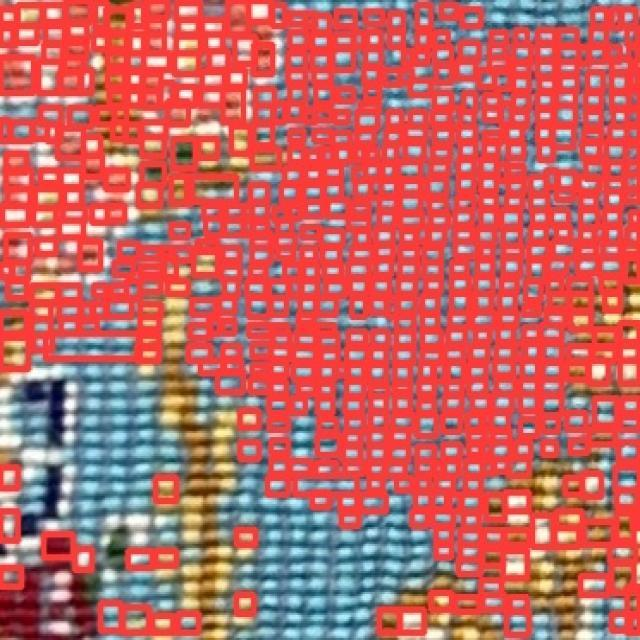Knot: (0, 337, 28, 370), (172, 138, 196, 168), (58, 130, 84, 157), (43, 534, 72, 558), (229, 2, 249, 36), (594, 398, 618, 426), (612, 564, 634, 594), (502, 550, 526, 577), (584, 522, 612, 545), (532, 515, 552, 547), (124, 608, 150, 632), (7, 236, 31, 262), (170, 177, 193, 204), (223, 90, 243, 121), (40, 63, 60, 94), (251, 148, 279, 170), (194, 249, 218, 274), (80, 240, 101, 268), (100, 604, 122, 630), (1, 312, 27, 334), (614, 468, 640, 490), (232, 125, 250, 155), (401, 610, 425, 632), (106, 10, 128, 34), (6, 170, 32, 190), (0, 511, 17, 541), (66, 1, 90, 22), (17, 5, 41, 26), (176, 52, 200, 73), (218, 372, 242, 393), (35, 188, 61, 207), (254, 46, 272, 73), (378, 610, 400, 632), (249, 1, 272, 22), (59, 72, 82, 93), (507, 613, 530, 634), (505, 492, 529, 512), (177, 34, 201, 54), (234, 38, 254, 62), (168, 100, 188, 124), (617, 512, 634, 540), (580, 577, 608, 594), (590, 428, 616, 446), (31, 284, 57, 302), (360, 494, 386, 512), (142, 163, 164, 184), (156, 478, 176, 501), (4, 206, 28, 225), (32, 207, 56, 226), (558, 511, 584, 528), (106, 300, 132, 317), (139, 185, 160, 206), (70, 108, 92, 128), (569, 294, 592, 313), (317, 436, 340, 455), (106, 170, 130, 188), (611, 544, 635, 562), (571, 310, 592, 330), (11, 122, 32, 142), (66, 38, 87, 58), (486, 496, 505, 518), (142, 136, 164, 155), (593, 330, 616, 348), (556, 529, 580, 546), (176, 2, 200, 19), (144, 53, 168, 70), (200, 89, 224, 106), (7, 189, 31, 206), (14, 26, 38, 43), (505, 529, 529, 546), (128, 551, 152, 568), (589, 362, 608, 383), (620, 362, 639, 383), (431, 592, 452, 611), (67, 24, 88, 43), (0, 568, 21, 587), (620, 322, 639, 343), (566, 362, 588, 380), (554, 106, 576, 124), (254, 124, 272, 146), (177, 615, 200, 632), (202, 18, 226, 34), (320, 230, 344, 246), (198, 139, 218, 158), (606, 142, 626, 161), (333, 50, 353, 69), (248, 298, 268, 317), (483, 548, 503, 567), (553, 128, 574, 146), (84, 156, 102, 177), (600, 258, 622, 275), (472, 312, 495, 328), (60, 221, 83, 237), (553, 243, 576, 259), (626, 256, 640, 282), (74, 550, 93, 569), (209, 52, 228, 71), (542, 395, 561, 414), (567, 412, 586, 431), (44, 44, 63, 63), (32, 318, 51, 337), (7, 154, 27, 172), (62, 206, 86, 221), (568, 346, 592, 361), (224, 218, 244, 236), (142, 121, 166, 136), (192, 299, 216, 314), (204, 34, 224, 52), (616, 490, 636, 508), (152, 615, 173, 632), (558, 45, 579, 62), (619, 345, 640, 362), (584, 474, 600, 496), (578, 176, 600, 192), (40, 108, 62, 124), (59, 304, 82, 319), (188, 346, 211, 361), (392, 415, 415, 430), (569, 280, 592, 295), (139, 278, 162, 293), (582, 140, 600, 159), (543, 362, 562, 380), (64, 188, 82, 207), (324, 182, 342, 201), (256, 88, 274, 107), (84, 137, 102, 156), (315, 86, 334, 104), (37, 238, 56, 256), (44, 5, 64, 22), (396, 297, 416, 314), (204, 72, 224, 89), (313, 14, 330, 34), (400, 162, 420, 179), (0, 468, 17, 488), (268, 478, 288, 495), (357, 114, 378, 130), (619, 444, 640, 460), (62, 170, 83, 186), (541, 380, 562, 396), (0, 24, 16, 45), (494, 69, 510, 90), (480, 579, 502, 594), (428, 178, 446, 196), (628, 588, 640, 615), (236, 594, 253, 613), (493, 395, 512, 412), (549, 295, 568, 312), (548, 257, 567, 274), (418, 416, 435, 435), (143, 90, 160, 109), (509, 459, 528, 476), (148, 2, 167, 19), (611, 72, 628, 91), (228, 69, 245, 88), (239, 410, 258, 427), (586, 162, 605, 179), (268, 398, 288, 414), (522, 360, 538, 380), (179, 19, 199, 35), (327, 200, 347, 216), (529, 260, 545, 280), (460, 544, 480, 560), (60, 286, 80, 302), (610, 614, 630, 630), (460, 560, 480, 576), (129, 34, 145, 54), (64, 58, 84, 74), (293, 365, 314, 380), (541, 324, 562, 339), (136, 347, 160, 360), (592, 347, 616, 360), (0, 10, 17, 28), (580, 209, 598, 226), (8, 281, 26, 298), (288, 53, 306, 70), (378, 211, 396, 228), (610, 126, 627, 144), (502, 211, 520, 228), (46, 26, 64, 43), (318, 298, 336, 315), (349, 262, 368, 278), (450, 312, 469, 328), (401, 196, 420, 212), (146, 36, 165, 52), (528, 242, 547, 258), (364, 49, 380, 68), (608, 161, 624, 180), (588, 73, 604, 92), (492, 413, 508, 432), (444, 414, 460, 433), (456, 62, 475, 78), (431, 494, 450, 510), (491, 444, 510, 460), (566, 477, 582, 496), (590, 28, 606, 47), (178, 88, 194, 107), (456, 196, 475, 212), (461, 10, 480, 26), (236, 529, 256, 544), (484, 596, 504, 611), (326, 281, 346, 296), (156, 550, 176, 565), (600, 277, 620, 292), (40, 169, 60, 184), (484, 529, 504, 544), (460, 530, 480, 545), (293, 348, 316, 361), (461, 496, 482, 510), (251, 380, 272, 394), (418, 6, 432, 27), (476, 276, 493, 293), (504, 229, 521, 246), (604, 209, 621, 226), (241, 442, 258, 459), (445, 395, 462, 412), (455, 209, 472, 226), (394, 365, 411, 382), (313, 52, 330, 69), (467, 414, 484, 431), (532, 176, 548, 194), (304, 186, 322, 202), (460, 42, 478, 58), (612, 108, 628, 126), (464, 476, 482, 492), (558, 174, 576, 190), (120, 242, 138, 258), (250, 186, 268, 202), (256, 106, 272, 124), (464, 512, 480, 530), (378, 196, 396, 212), (312, 492, 330, 508), (390, 446, 408, 462), (34, 336, 52, 352), (478, 70, 496, 86), (161, 82, 173, 106), (400, 214, 422, 227), (456, 598, 478, 611), (578, 258, 597, 273), (405, 144, 424, 159), (395, 349, 414, 364), (543, 345, 562, 360), (509, 598, 528, 613), (247, 280, 266, 295), (269, 282, 288, 297), (296, 332, 316, 346), (456, 242, 476, 256), (287, 102, 301, 122), (496, 380, 516, 394), (410, 80, 430, 94), (336, 12, 356, 26), (96, 4, 108, 27), (348, 215, 369, 228), (139, 305, 160, 318), (475, 294, 492, 310), (452, 295, 468, 312), (400, 262, 417, 278), (418, 446, 435, 462), (422, 296, 438, 313), (477, 258, 493, 275), (504, 259, 520, 276), (498, 326, 514, 343), (500, 295, 516, 312), (345, 398, 362, 414), (547, 310, 564, 326), (523, 345, 539, 362), (589, 44, 605, 61), (604, 227, 620, 244), (443, 444, 460, 460), (205, 220, 222, 236), (282, 184, 298, 201), (526, 282, 542, 299), (370, 297, 386, 314), (623, 398, 640, 414), (313, 34, 330, 50), (364, 67, 380, 84), (520, 395, 536, 412), (514, 46, 530, 63), (611, 94, 628, 110), (300, 298, 316, 315), (144, 76, 161, 92), (522, 418, 538, 435), (559, 30, 576, 46), (270, 298, 286, 315), (470, 345, 488, 360), (448, 329, 466, 344), (496, 346, 514, 361), (434, 510, 452, 525), (372, 279, 390, 294), (552, 210, 570, 225), (300, 281, 318, 296), (500, 278, 518, 293), (558, 91, 576, 106), (288, 69, 306, 84), (472, 395, 490, 410), (398, 279, 416, 294), (432, 148, 451, 162), (221, 266, 240, 280), (319, 334, 338, 348), (251, 248, 270, 262), (406, 126, 425, 140), (501, 104, 512, 128), (268, 418, 288, 431), (344, 462, 364, 475), (444, 348, 464, 361), (316, 463, 336, 476), (347, 349, 367, 362), (190, 325, 210, 338), (106, 73, 126, 86), (167, 281, 187, 294), (290, 462, 310, 475), (480, 176, 496, 192), (480, 210, 496, 226), (344, 446, 360, 462), (508, 125, 524, 141), (422, 314, 438, 330), (458, 176, 474, 192), (536, 126, 552, 142), (372, 332, 388, 348), (508, 178, 524, 194), (536, 108, 552, 124), (381, 180, 397, 196), (289, 86, 305, 102), (108, 206, 124, 222), (606, 190, 622, 206), (92, 206, 108, 222), (604, 294, 620, 310), (496, 360, 512, 376), (276, 220, 292, 236), (530, 226, 546, 242), (416, 494, 432, 510), (98, 108, 114, 124), (94, 34, 110, 50), (620, 11, 636, 27), (436, 66, 452, 82), (369, 366, 386, 381), (560, 76, 577, 91), (431, 161, 448, 176), (62, 319, 79, 334), (227, 207, 244, 222), (350, 279, 367, 294), (271, 459, 288, 474), (285, 168, 302, 183), (377, 230, 394, 245), (422, 332, 440, 346), (626, 146, 640, 164), (458, 128, 476, 142), (520, 380, 538, 394), (396, 332, 414, 346), (402, 180, 420, 194), (490, 58, 508, 72), (396, 316, 414, 330), (108, 34, 126, 48), (612, 60, 630, 74), (351, 248, 372, 260), (538, 62, 556, 76), (322, 248, 340, 262), (80, 71, 92, 92), (146, 20, 164, 34), (324, 264, 342, 278), (132, 4, 144, 25), (602, 244, 620, 258), (606, 178, 624, 192), (620, 417, 639, 430), (387, 462, 406, 475), (253, 234, 272, 247), (346, 418, 365, 431), (31, 305, 50, 318), (276, 234, 295, 247), (370, 414, 386, 429), (452, 277, 468, 292), (508, 143, 524, 158), (512, 95, 528, 110), (478, 229, 494, 244), (412, 511, 428, 526), (474, 328, 490, 343), (480, 161, 496, 176), (483, 142, 499, 157), (512, 76, 528, 91), (542, 416, 558, 431), (412, 50, 428, 65), (170, 248, 190, 260), (458, 161, 474, 176), (220, 297, 236, 312), (466, 462, 482, 477), (460, 143, 476, 158), (443, 461, 459, 476), (484, 94, 500, 109), (508, 165, 524, 180), (326, 165, 342, 180), (109, 91, 125, 106), (441, 4, 457, 19), (342, 512, 358, 527), (434, 94, 450, 109), (354, 230, 370, 245), (532, 210, 548, 225), (515, 442, 531, 457), (436, 528, 452, 543), (450, 106, 462, 126), (424, 264, 441, 278), (346, 382, 363, 396), (504, 244, 521, 258), (469, 364, 486, 378), (469, 380, 486, 394), (369, 430, 386, 444), (224, 360, 241, 374), (500, 312, 517, 326), (531, 196, 548, 210), (376, 244, 393, 258), (289, 34, 306, 48), (112, 121, 126, 138), (449, 364, 463, 381), (352, 299, 366, 316), (436, 47, 450, 64), (401, 246, 418, 260), (540, 143, 554, 160), (424, 248, 441, 262), (493, 428, 510, 442), (129, 53, 143, 70), (580, 244, 597, 258), (304, 168, 322, 181), (422, 350, 440, 363), (114, 261, 132, 274), (336, 33, 354, 46), (108, 53, 126, 66), (78, 321, 96, 334), (140, 266, 163, 276), (200, 362, 223, 372), (140, 318, 159, 330), (272, 6, 284, 25), (559, 62, 578, 74), (464, 92, 476, 111), (388, 298, 400, 317), (434, 363, 446, 382), (164, 257, 176, 276), (372, 395, 387, 410), (427, 278, 442, 293), (356, 180, 370, 196), (318, 400, 334, 414), (624, 244, 640, 258), (538, 94, 554, 108), (581, 194, 597, 208), (430, 198, 446, 212), (290, 398, 304, 414), (586, 111, 602, 125), (538, 44, 554, 58), (366, 34, 382, 48), (484, 108, 500, 122), (306, 202, 322, 216), (252, 222, 268, 236), (626, 174, 640, 190), (468, 430, 484, 444), (584, 130, 600, 144), (304, 264, 318, 280), (586, 94, 602, 108), (410, 112, 426, 126), (592, 11, 606, 27), (539, 78, 555, 92), (344, 432, 360, 446), (436, 544, 452, 558), (388, 14, 402, 30), (290, 148, 304, 164), (418, 400, 434, 414), (126, 125, 140, 141), (12, 264, 28, 278), (338, 88, 354, 102), (321, 350, 338, 363), (272, 347, 289, 360), (456, 229, 473, 242), (224, 345, 241, 358), (271, 440, 288, 453), (204, 207, 221, 220), (320, 419, 337, 432), (314, 70, 331, 83), (537, 30, 554, 43), (138, 337, 160, 347), (348, 332, 366, 344), (340, 496, 358, 508), (434, 130, 452, 142), (488, 44, 506, 56), (377, 262, 392, 276), (350, 365, 364, 380), (141, 248, 162, 258), (452, 262, 467, 276), (430, 229, 444, 244), (524, 326, 538, 341), (580, 228, 594, 243), (396, 397, 410, 412), (353, 204, 368, 218), (512, 111, 527, 125), (224, 280, 238, 295), (390, 32, 404, 47), (0, 119, 10, 140), (514, 31, 528, 46), (126, 282, 140, 297), (547, 279, 561, 294), (386, 70, 400, 85), (434, 32, 448, 47), (370, 349, 386, 362), (320, 366, 336, 379), (418, 462, 434, 475), (92, 304, 108, 317), (571, 440, 587, 453), (491, 31, 507, 44), (333, 132, 350, 144), (628, 615, 640, 632), (371, 384, 388, 396), (384, 144, 396, 161), (432, 112, 449, 124), (223, 248, 240, 260), (436, 478, 453, 490), (290, 279, 302, 296), (172, 224, 189, 236), (383, 164, 395, 181), (578, 46, 590, 63), (198, 242, 218, 252), (546, 170, 557, 188), (420, 364, 434, 378), (336, 148, 350, 162), (159, 246, 173, 260), (461, 111, 475, 125), (253, 204, 267, 218), (388, 112, 402, 126), (319, 382, 333, 396), (369, 478, 383, 492), (446, 496, 460, 510), (364, 148, 378, 162), (480, 246, 494, 260), (493, 459, 508, 472), (402, 231, 417, 244), (270, 364, 286, 376), (392, 430, 408, 442), (274, 334, 290, 346), (270, 382, 286, 394), (334, 110, 350, 122), (366, 12, 382, 24), (250, 266, 266, 278), (34, 122, 46, 138), (114, 106, 126, 122), (129, 90, 141, 106), (370, 448, 386, 460), (284, 266, 300, 278), (48, 124, 60, 140), (512, 62, 528, 74), (628, 109, 640, 125), (446, 382, 462, 394), (628, 126, 640, 142), (397, 478, 413, 490), (628, 92, 640, 108), (416, 226, 428, 242), (252, 346, 271, 356), (372, 180, 382, 199), (626, 29, 637, 46), (497, 164, 508, 181), (249, 326, 272, 334), (370, 462, 384, 475), (93, 284, 107, 297), (468, 442, 482, 455), (542, 443, 556, 456), (366, 165, 380, 178), (624, 188, 638, 201), (628, 229, 640, 244), (507, 196, 522, 208), (81, 304, 93, 319), (556, 190, 574, 200), (612, 10, 622, 28), (318, 324, 336, 334), (417, 32, 429, 47), (298, 384, 316, 394), (360, 103, 380, 112), (482, 460, 494, 475), (274, 207, 286, 222), (354, 167, 366, 182), (110, 285, 126, 296), (273, 105, 284, 121), (314, 132, 331, 142), (314, 110, 331, 120), (303, 228, 320, 238), (252, 364, 269, 374), (357, 132, 374, 142), (394, 383, 411, 393), (430, 216, 447, 226), (486, 132, 500, 144), (290, 130, 304, 142), (302, 248, 316, 260), (319, 150, 333, 162), (387, 132, 401, 144), (482, 196, 496, 208), (416, 478, 430, 490), (366, 88, 380, 100), (609, 48, 621, 62), (420, 382, 434, 394), (129, 74, 141, 88), (1, 264, 13, 278), (514, 345, 525, 360), (353, 31, 364, 46), (306, 152, 322, 162), (290, 14, 306, 24), (276, 248, 292, 258), (299, 314, 315, 324), (223, 321, 235, 334), (628, 162, 640, 175), (354, 147, 366, 160), (432, 462, 444, 475), (401, 70, 413, 83), (595, 226, 606, 240), (305, 108, 316, 122), (630, 68, 638, 87), (210, 320, 220, 335), (404, 50, 414, 65), (482, 441, 492, 456), (523, 307, 539, 316), (628, 46, 638, 60), (556, 228, 570, 238), (290, 204, 300, 218), (244, 222, 254, 236), (482, 414, 490, 431), (420, 182, 428, 199), (306, 14, 317, 26), (336, 364, 347, 376), (299, 326, 315, 334), (632, 511, 639, 528), (631, 212, 640, 225), (244, 206, 253, 219), (274, 326, 288, 334), (469, 301, 476, 314)
